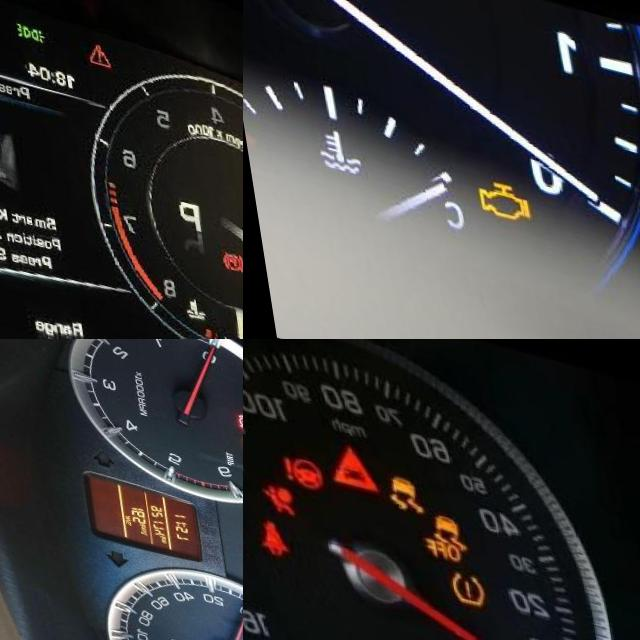Engine cooling system: (168, 273, 195, 304)
